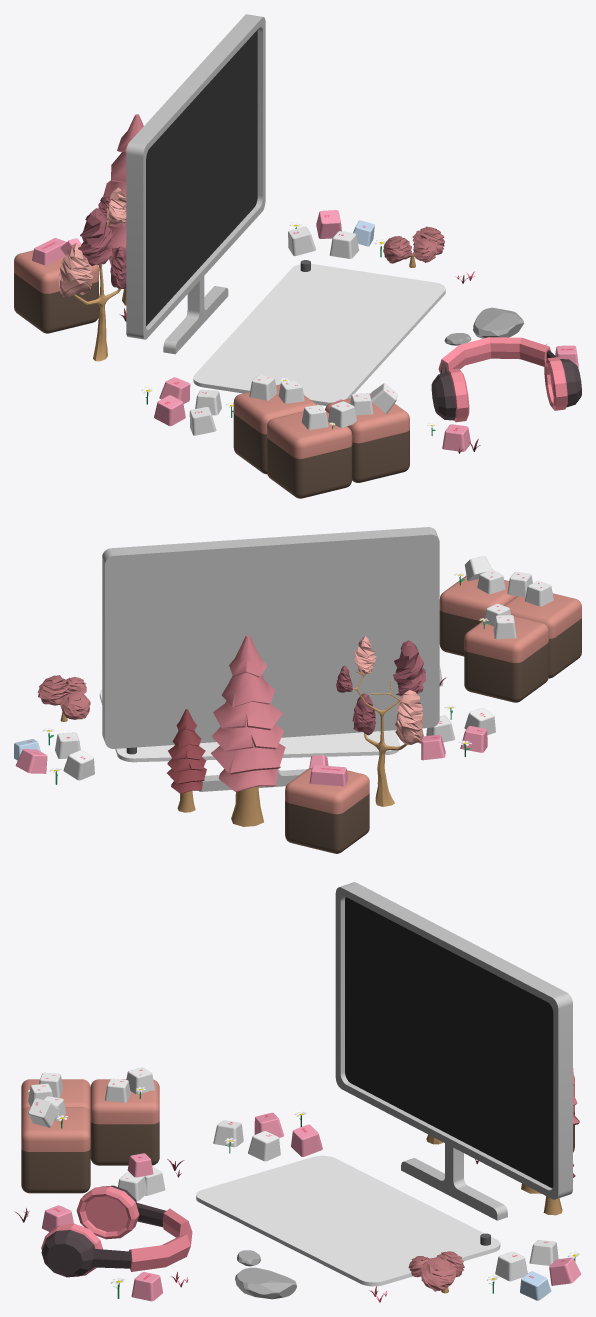
File: PopupBook_03_New_Left.fbx
3 views of the same model, one above another, from view 1: azimuth 30°, elevation 25°; view 2: azimuth 150°, elevation 25°; view 3: azimuth 270°, elevation 25° (orthographic). The views are drawn at different scales.
Parts seen in each view (by area): view 1: Monitor, Ch03_Left; view 2: Monitor, Ch03_Left; view 3: Monitor, Ch03_Left.
Part boxes in pixels (x1=…): Monitor: x1=126, y1=14, x2=445, y2=405; Ch03_Left: x1=14, y1=114, x2=581, y2=498; Monitor: x1=99, y1=527, x2=439, y2=791; Ch03_Left: x1=14, y1=556, x2=581, y2=853; Monitor: x1=196, y1=882, x2=572, y2=1286; Ch03_Left: x1=14, y1=1067, x2=581, y2=1302.
Bounding box in the file's own units: 143 × 87.03 × 174.
